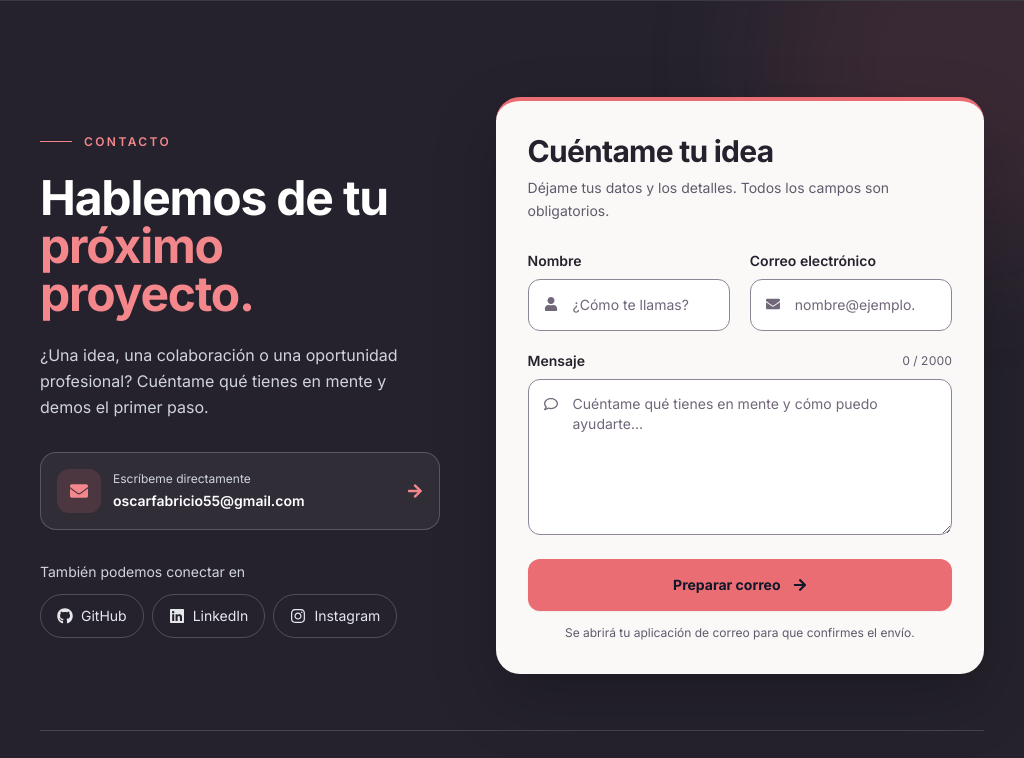
Test: prepares an encoded email without claiming it was sent or clearing the fields
Type "María Pérez" into the field labelled "Nombre" at (629, 304), box [528,278,730,330]
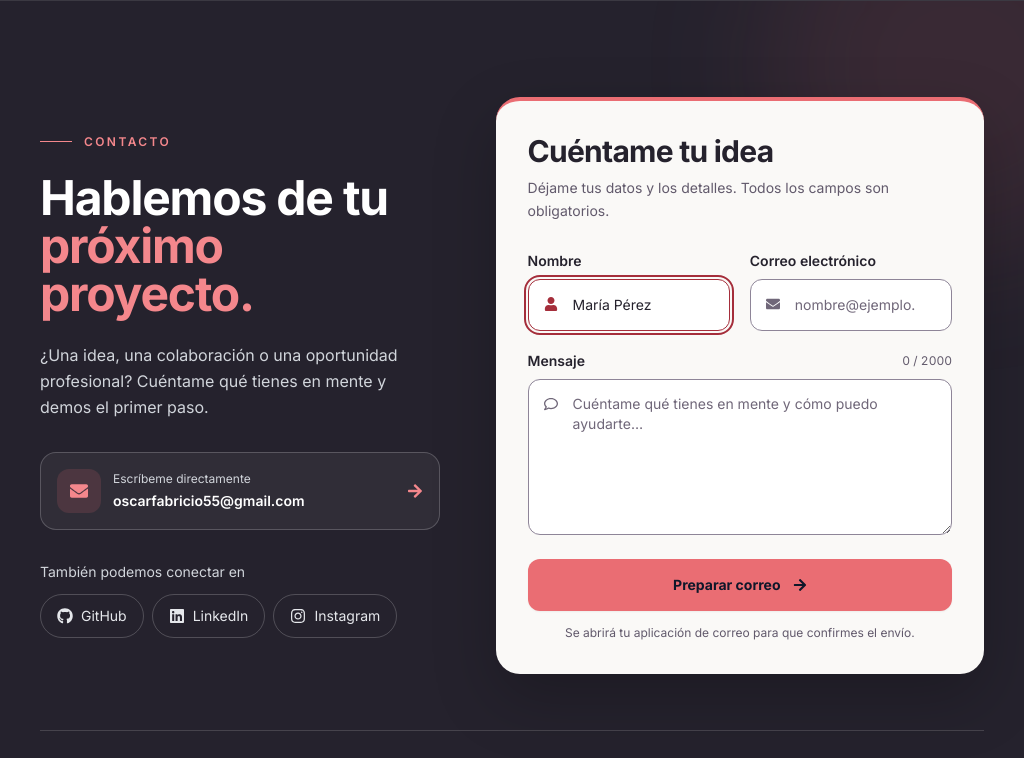
Type "maria@example.com" into the field labelled "Correo electrónico" at (851, 304), box [750,278,952,330]
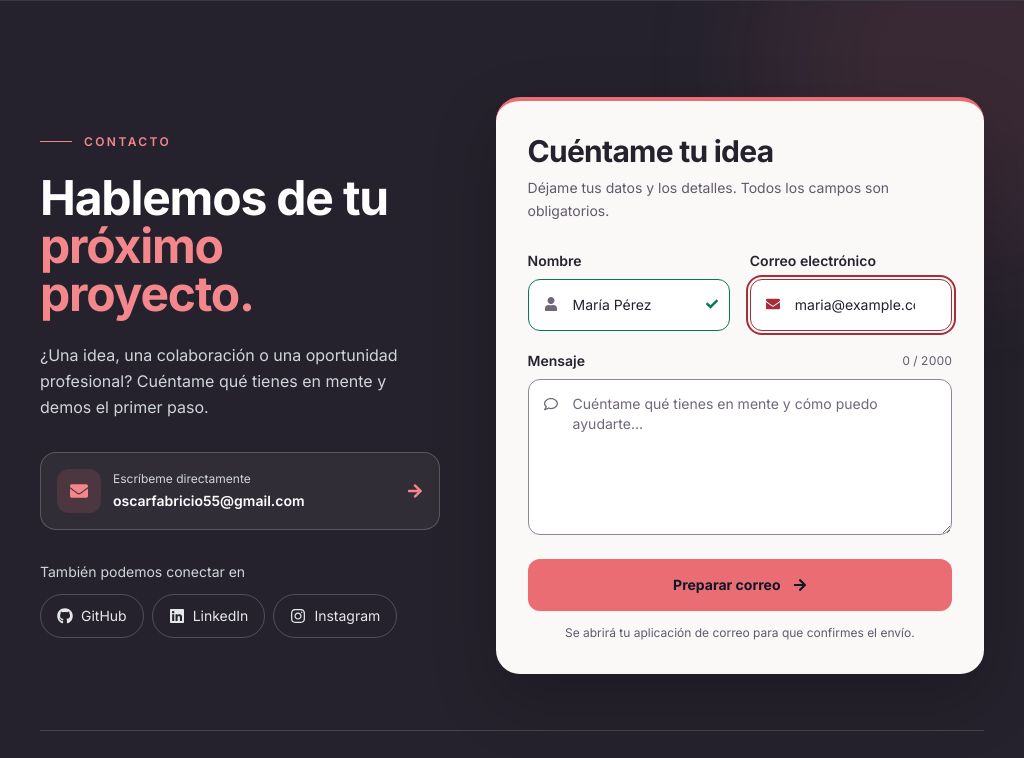
Type "Hola, quiero hablar de diseño & desarrollo." into the text box labelled "Mensaje" at (740, 456), box [528,378,952,534]
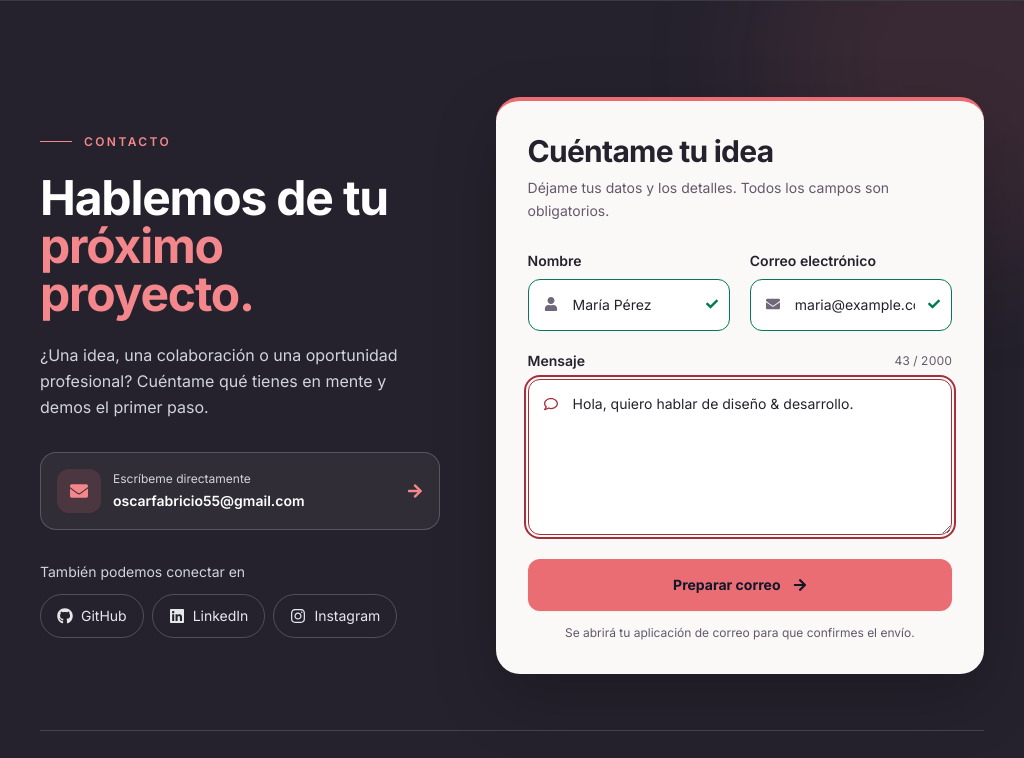
Click the button "Preparar correo" at (740, 584), box [528,558,952,610]
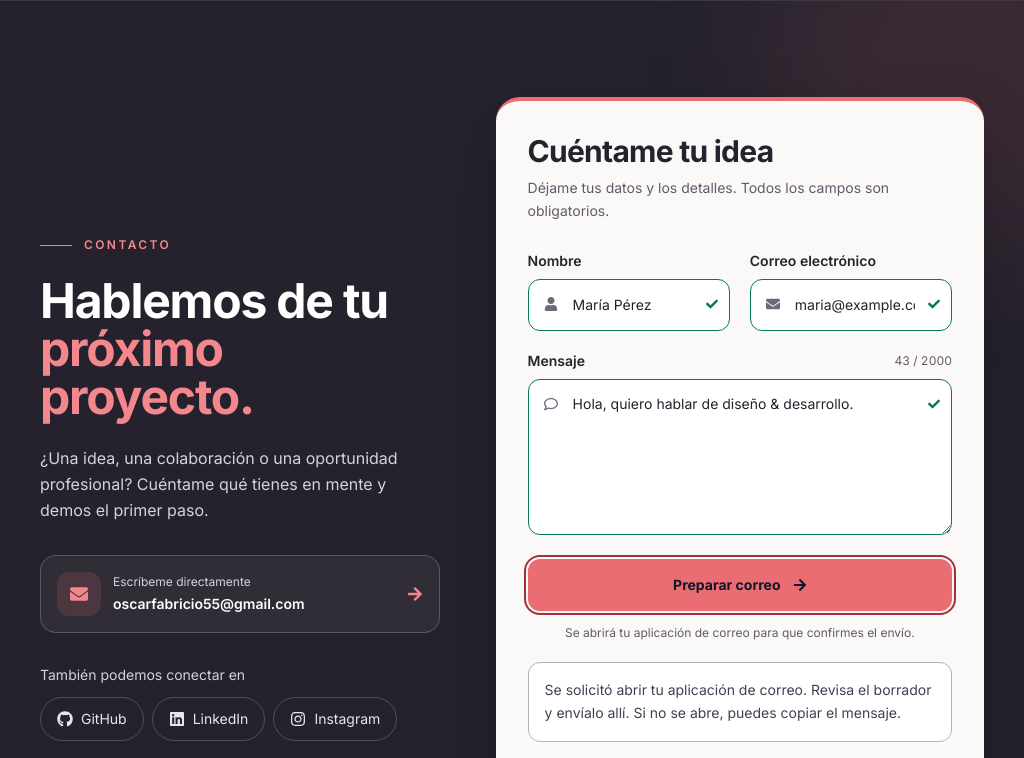
Expected: the message shows "Se solicitó abrir tu aplicación de correo", [545,681,931,721]
